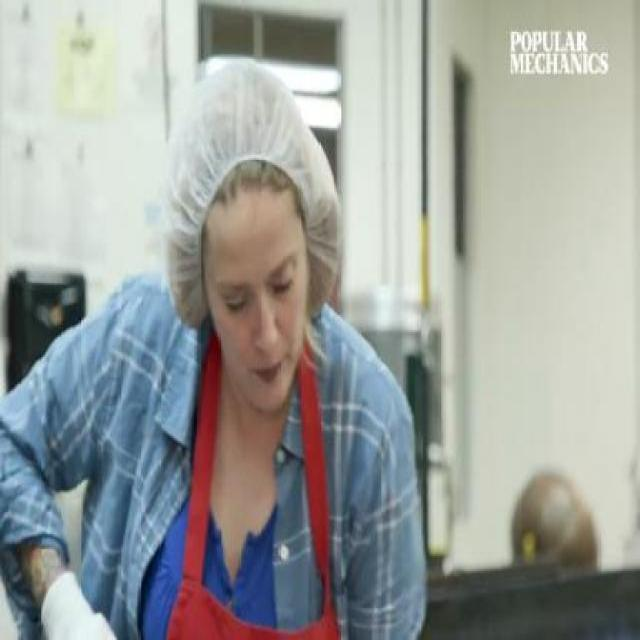gloved_hand: (30, 563, 129, 640)
